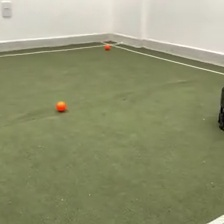ball: (55, 99, 68, 113), (103, 41, 112, 50)
